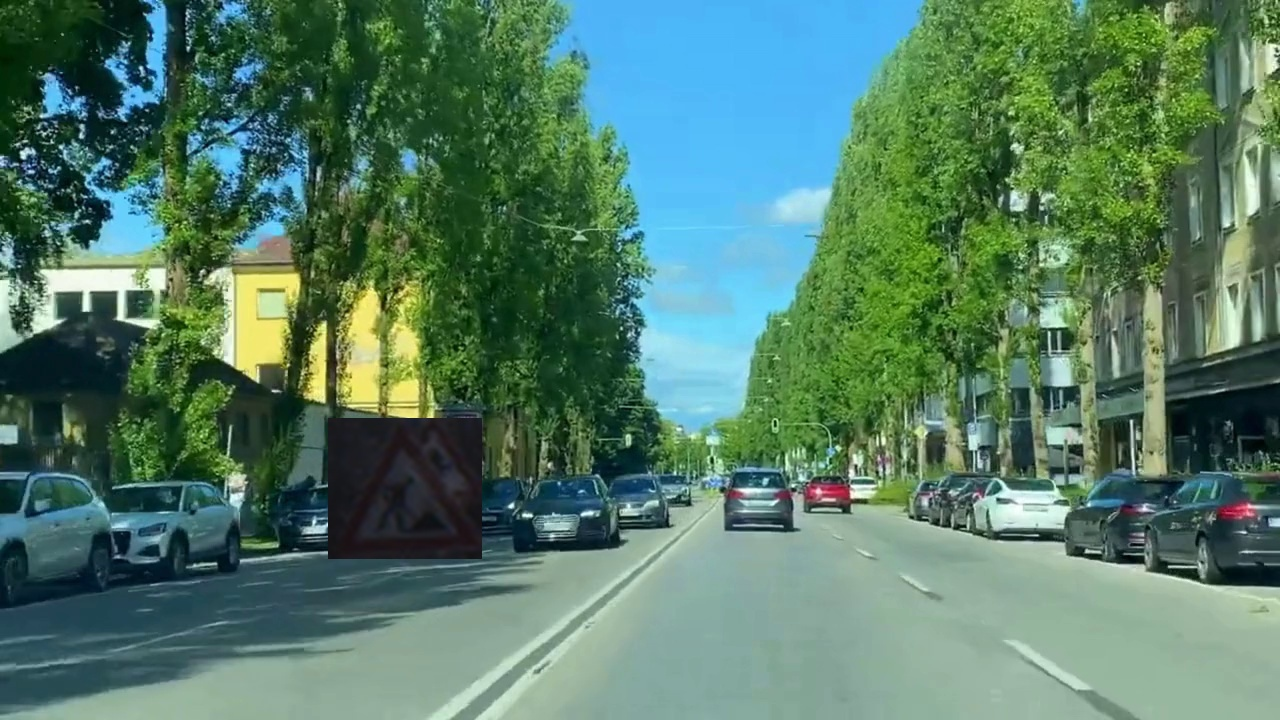Road work: (328, 418, 482, 559)
